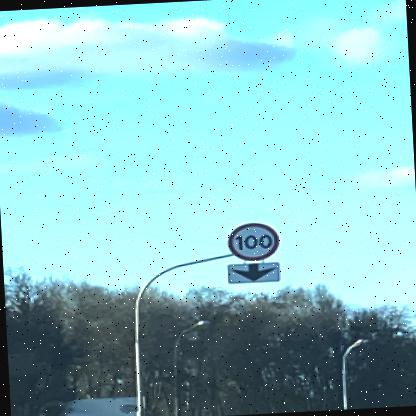speedlimit: (223, 219, 278, 261)
